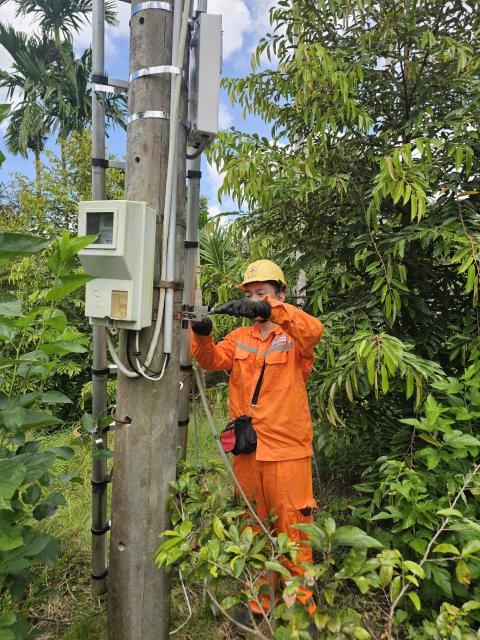gloves: (181, 303, 219, 343), (222, 298, 275, 323)
helmet: (231, 245, 299, 298)
